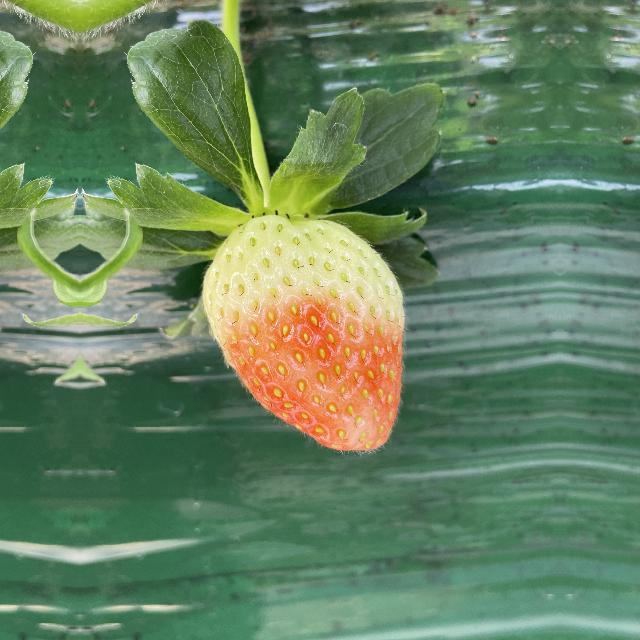Health_75: (203, 212, 415, 460)
